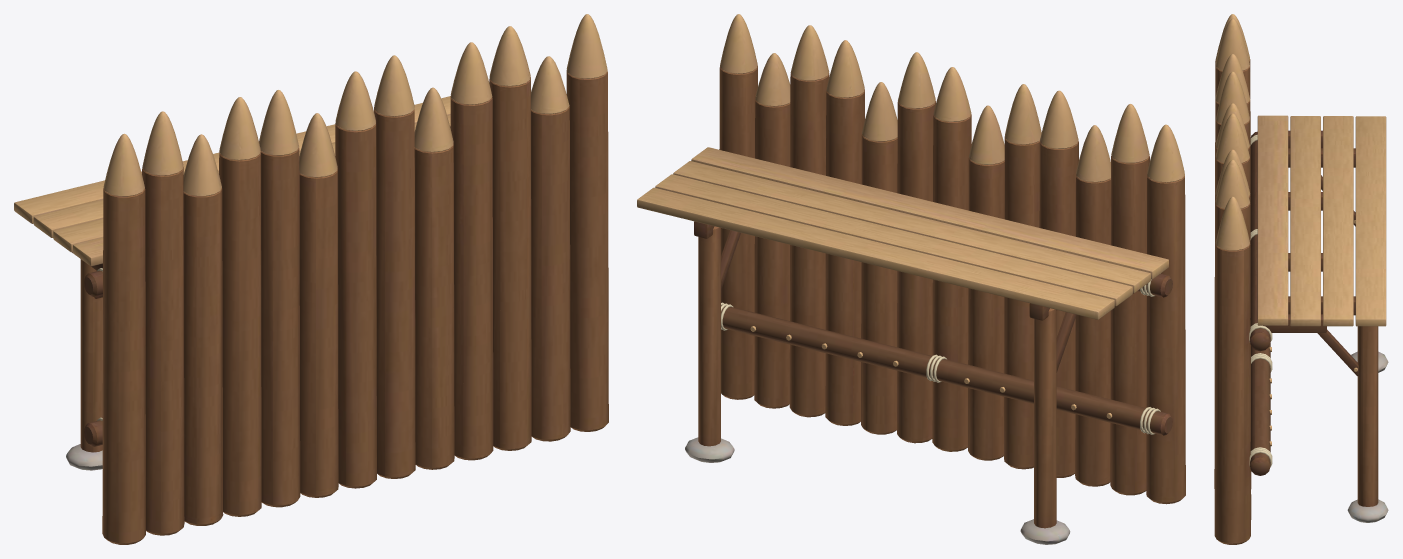
File: empalizada_madera.glb
The picture shows the model from 3 angles, left to right: view 1: azimuth 30°, elevation 25°; view 2: azimuth 150°, elevation 25°; view 3: azimuth 270°, elevation 25°; orthographic projection. The views are drawn at different scales.
Parts seen in each view (by area): view 1: wooden-palisade_body; view 2: wooden-palisade_body; view 3: wooden-palisade_body.
Part boxes in pixels (bbox=[...]): wooden-palisade_body: bbox=[14, 14, 608, 544]; wooden-palisade_body: bbox=[637, 14, 1185, 544]; wooden-palisade_body: bbox=[1214, 14, 1388, 544].
Size of the model in its own units: 4.01 by 3.18 by 1.44.
Materials: 3 (1 with a texture image).
